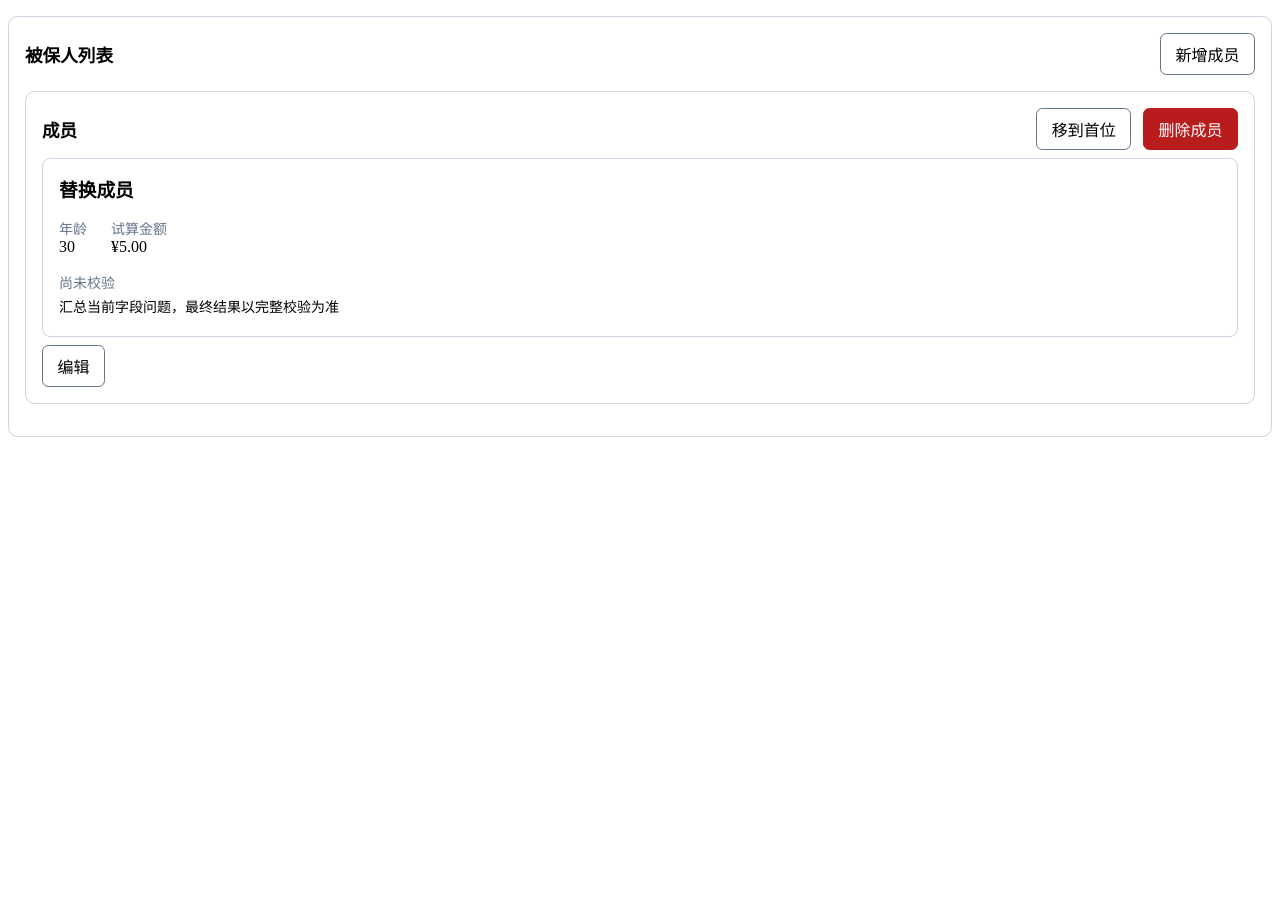
Test case: closes an old editor after whole-array replacement instead of editing the replacement member
Earlier steps of the test are not shown.
Click the button "编辑" at (73, 366), box x1=42 y1=345 x2=105 y2=387
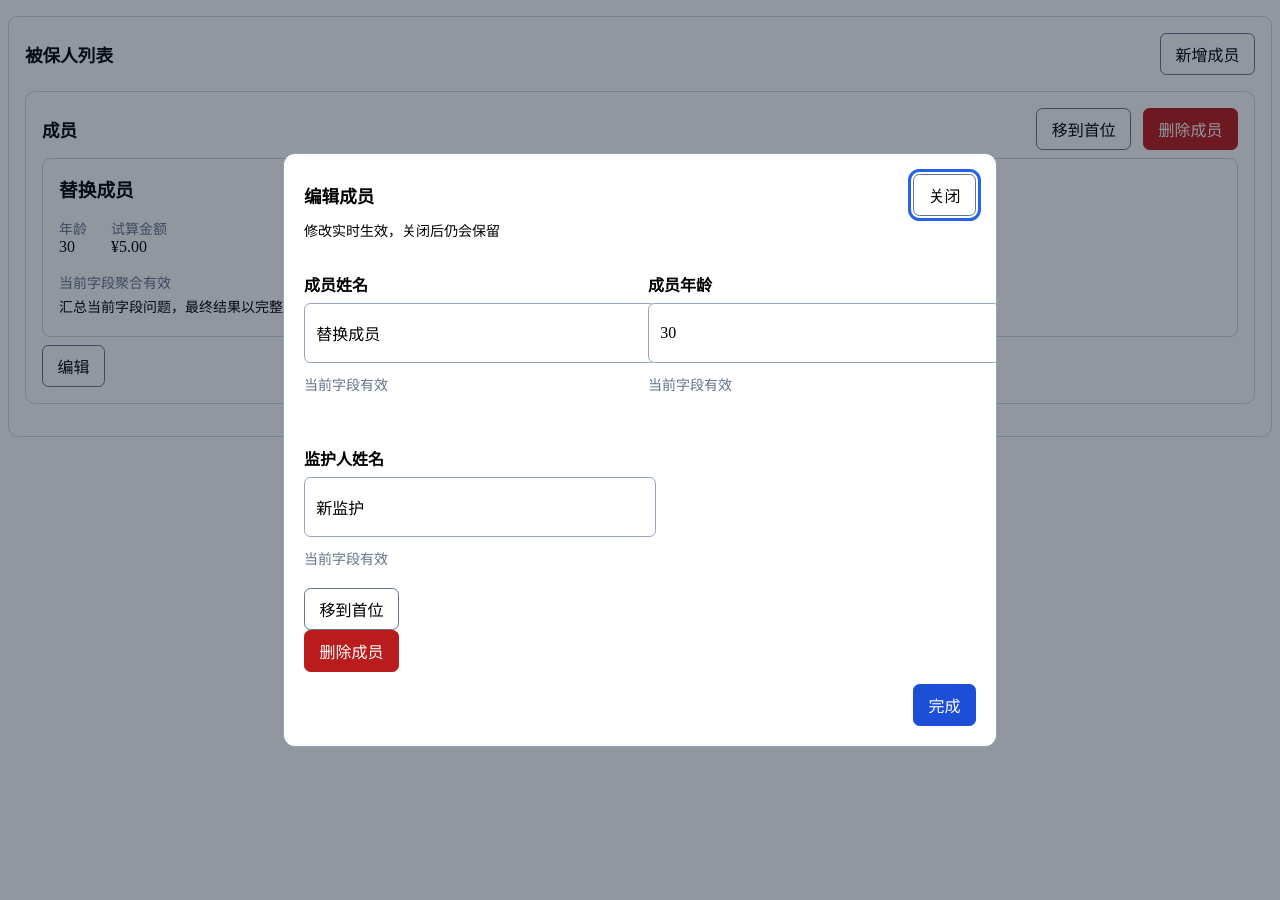
Expected: the field labelled "成员姓名" holds "替换成员", x1=304 y1=303 x2=656 y2=363
